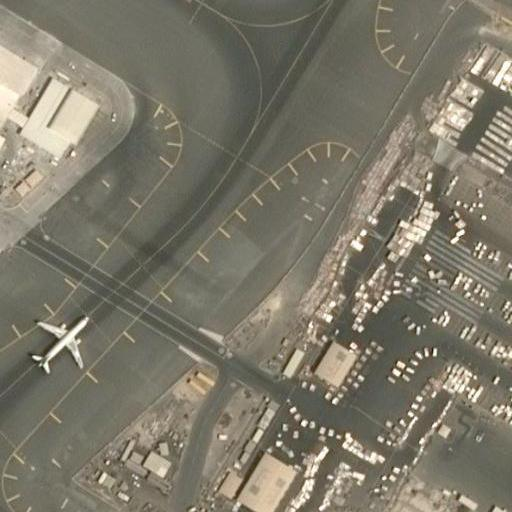Aircraft: (29, 304, 90, 373)
